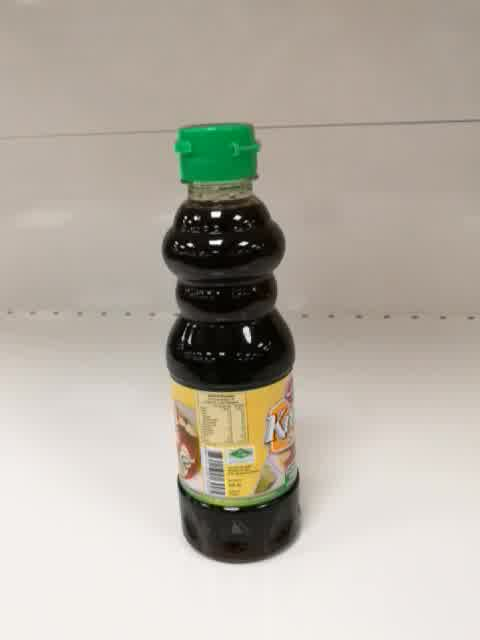cookingoil: (159, 122, 304, 565)
